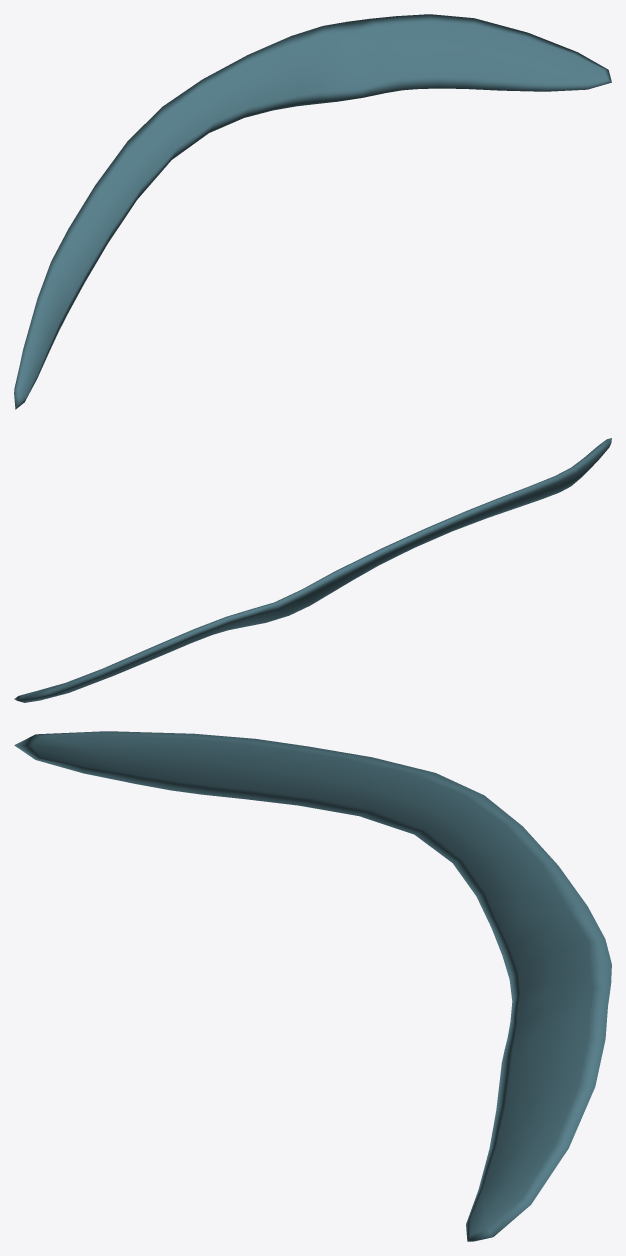
The model's file is Ascending_part_of_trapezius_muscle-Occipital_insertion.r_Genera.glb.
3 renders of one model, top to bottom at view 1: azimuth 30°, elevation 25°; view 2: azimuth 210°, elevation 25°; view 3: azimuth 270°, elevation 25°, orthographic. The views are drawn at different scales.
Visible parts, largest first — view 1: Ascending_part_of_trapezius_muscle-Occipital_insertion.r_Gen; view 2: Ascending_part_of_trapezius_muscle-Occipital_insertion.r_Gen; view 3: Ascending_part_of_trapezius_muscle-Occipital_insertion.r_Gen.
Part boxes in pixels (x1,y1,x2,y2): Ascending_part_of_trapezius_muscle-Occipital_insertion.r_Gen: [14, 14, 611, 409]; Ascending_part_of_trapezius_muscle-Occipital_insertion.r_Gen: [14, 438, 611, 702]; Ascending_part_of_trapezius_muscle-Occipital_insertion.r_Gen: [14, 731, 611, 1241].
Bounding box in the file's own units: 0.0371 × 0.00581 × 0.017.
